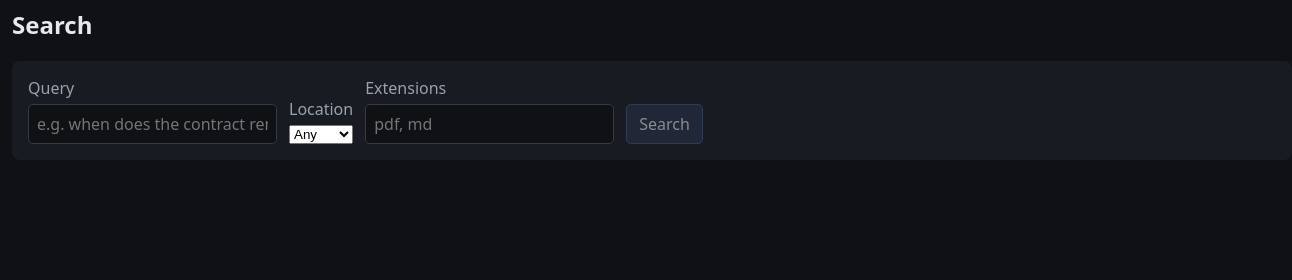
submits a query and renders a hit with path, page, and score
Type "renew" into the field with placeholder "e.g. when does the contract renew?". click: (152, 124)
box: [28, 104, 277, 144]
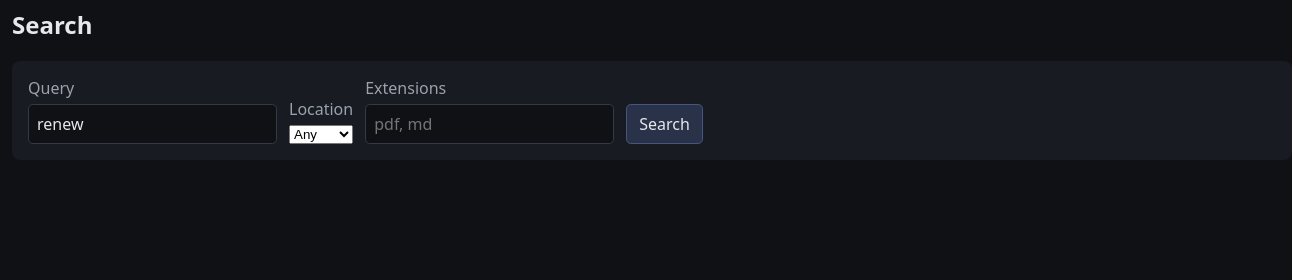
Click the button "Search". click: (664, 124)
box: [626, 104, 703, 144]
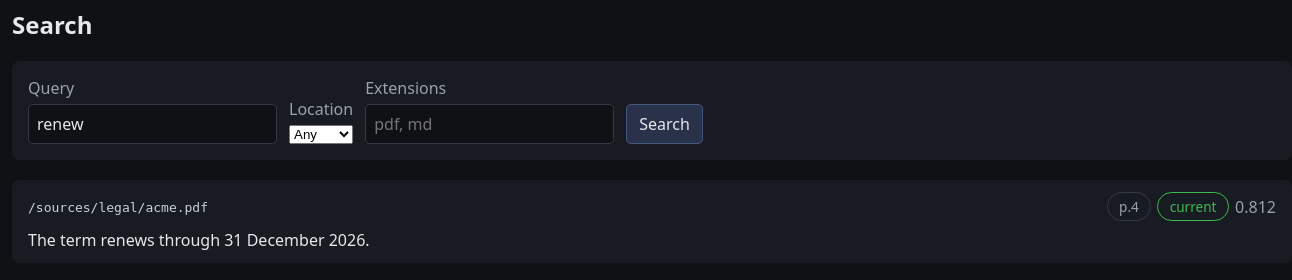
Expected: the text "/sources/legal/acme.pdf" is shown, [28, 200, 208, 215]
Expected: the text "The term renews through 31 December 2026." is shown, [28, 229, 370, 251]
Expected: the text "p.4" is shown, [1107, 192, 1151, 221]
